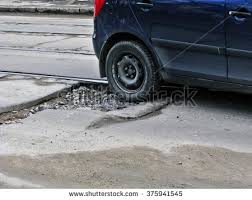pothole: (1, 74, 141, 141)
